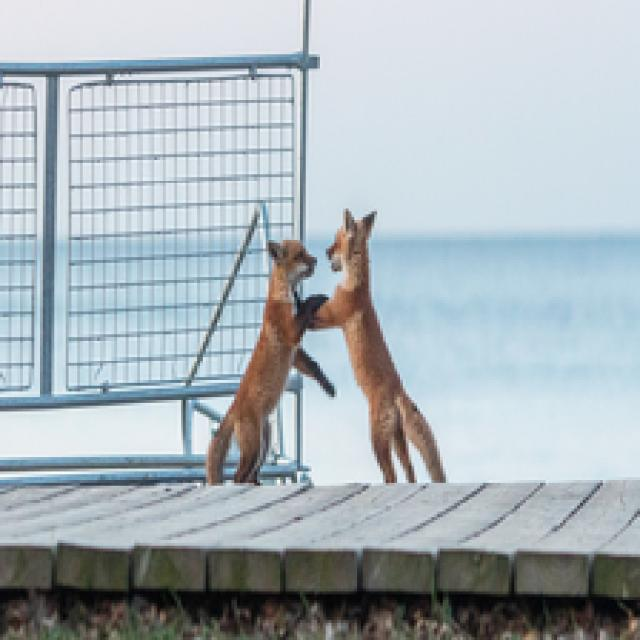fox: (325, 207, 447, 485), (211, 219, 327, 484)
